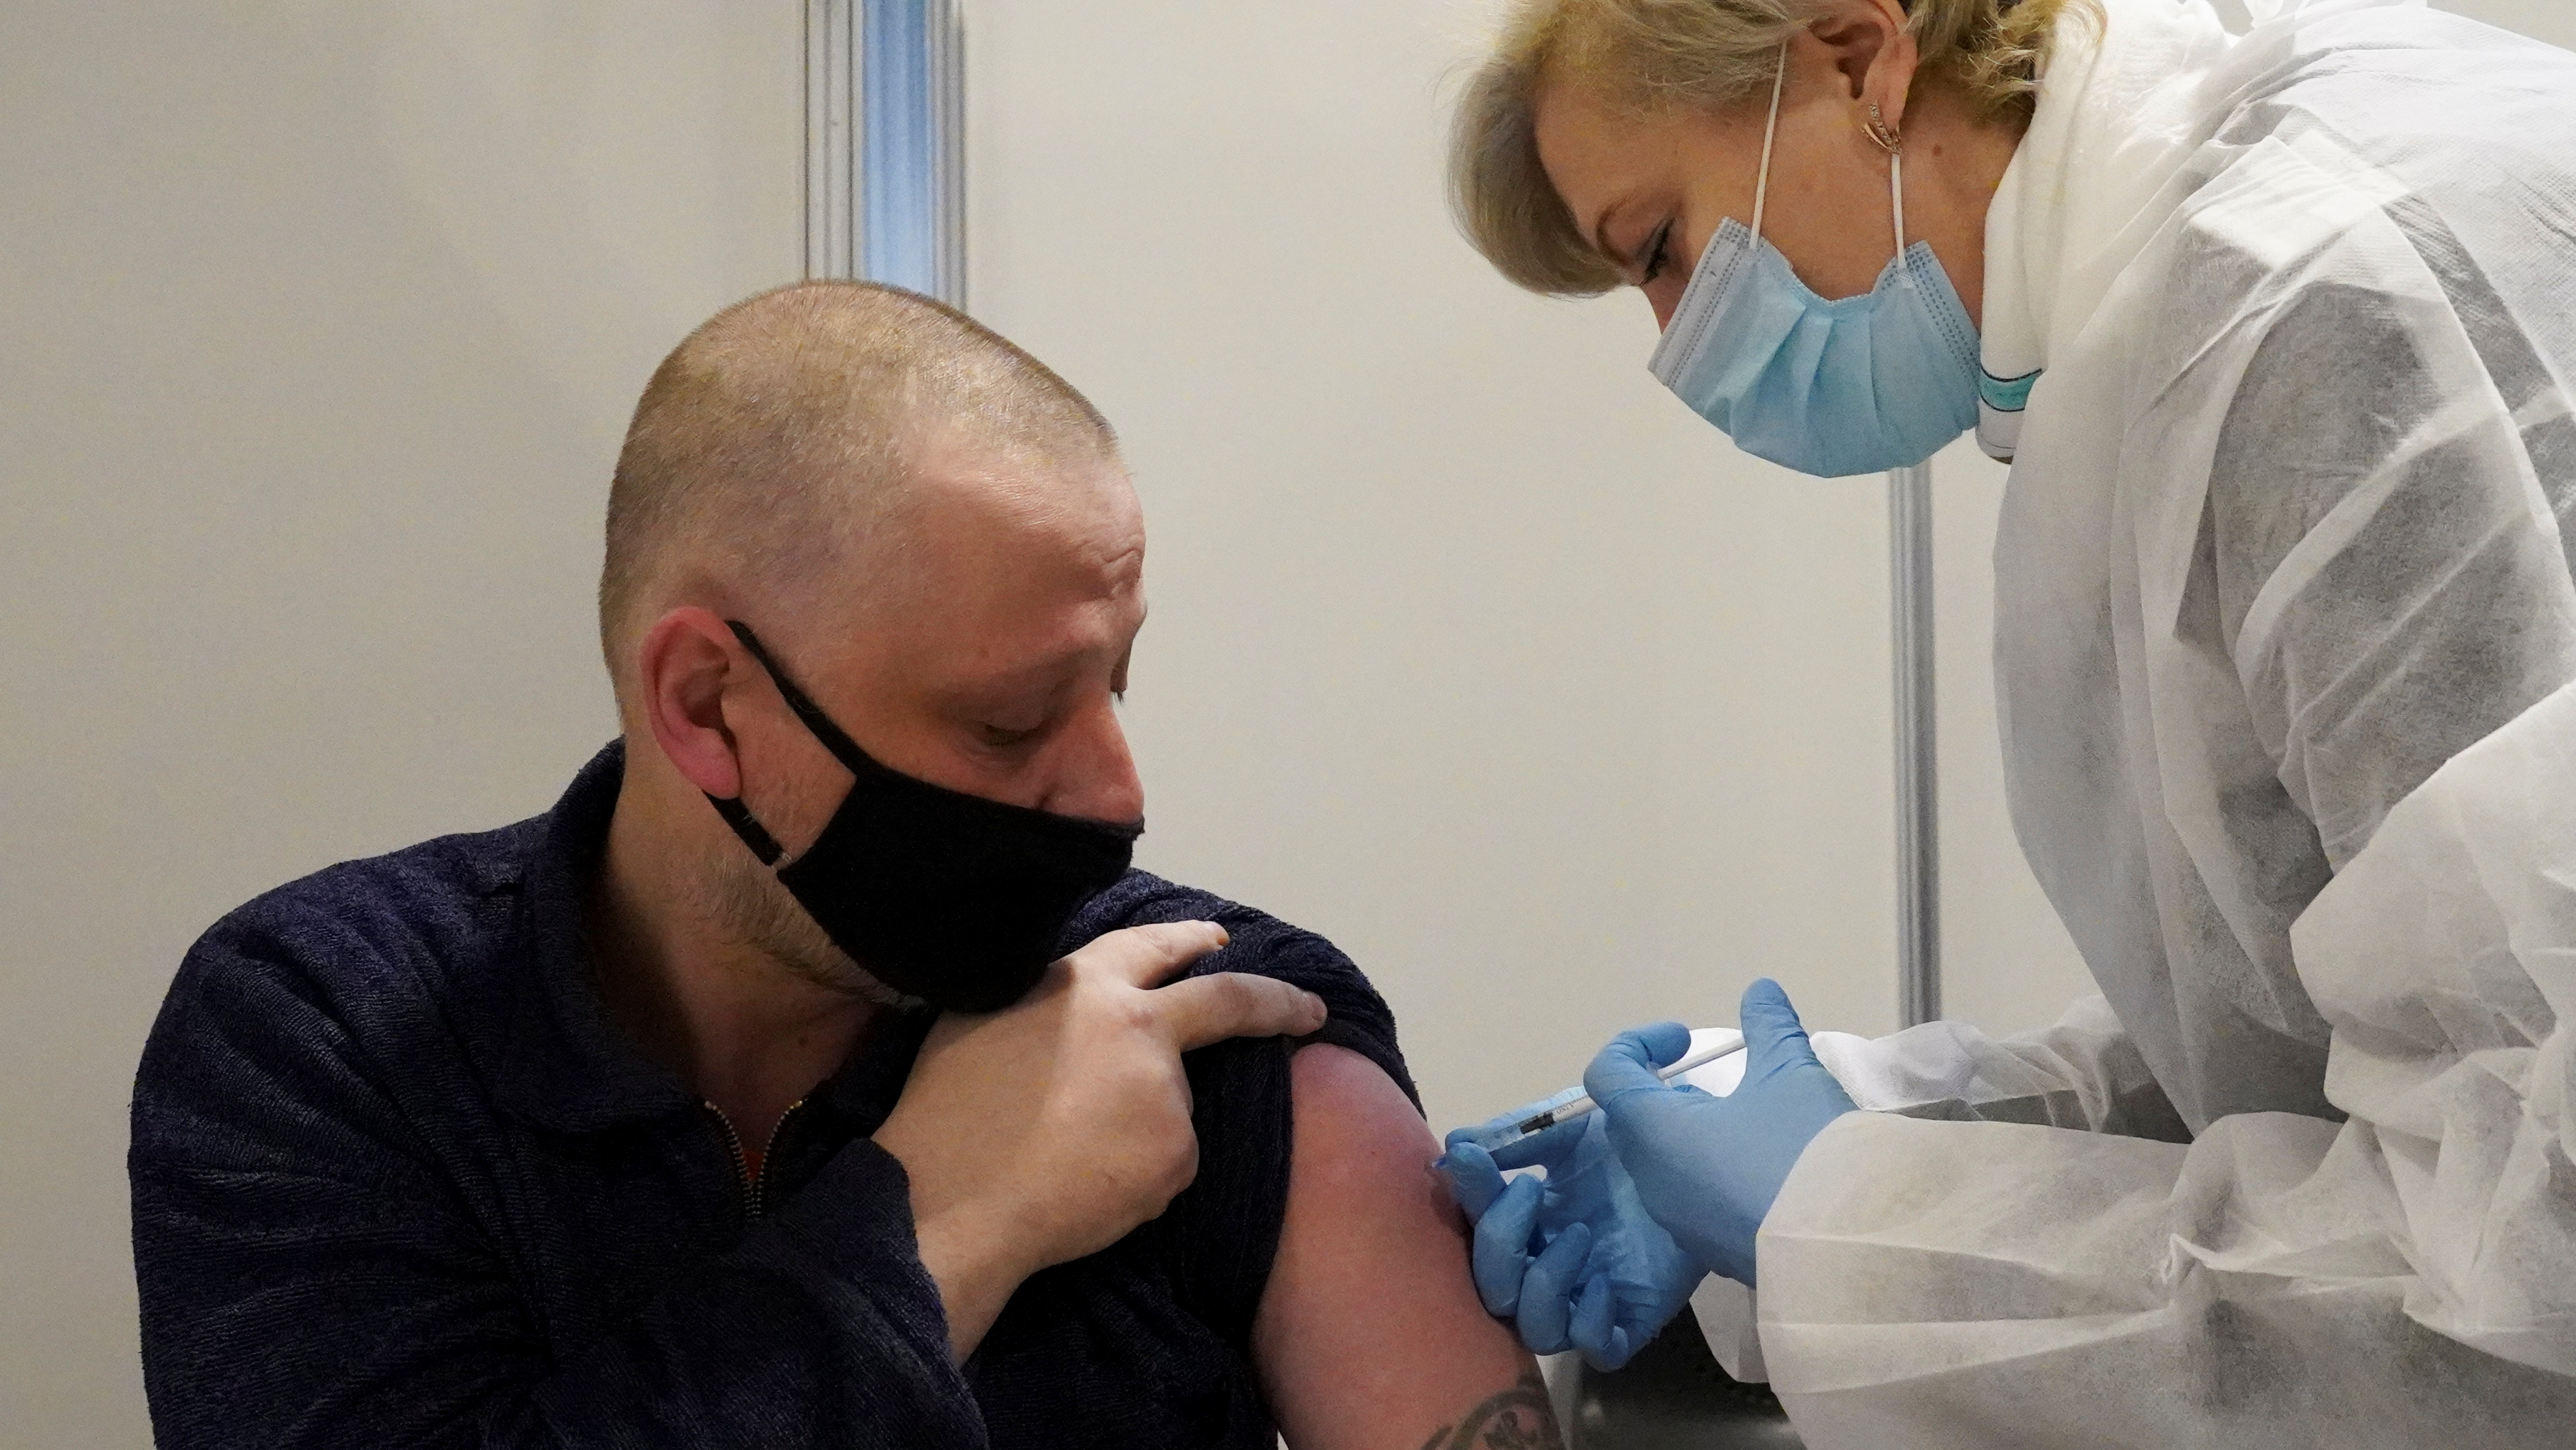with_incorrect_mask: (864, 589, 1144, 945)
with_mask: (1584, 154, 1982, 455)
